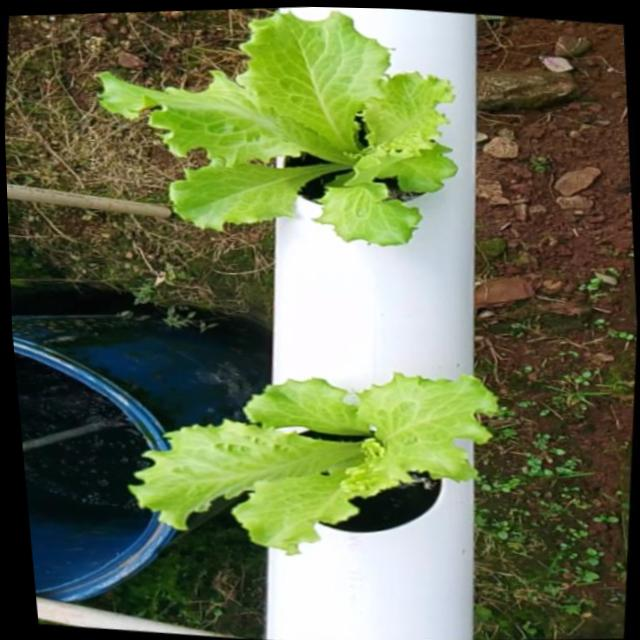Baby: (103, 7, 461, 244), (131, 377, 503, 559)
